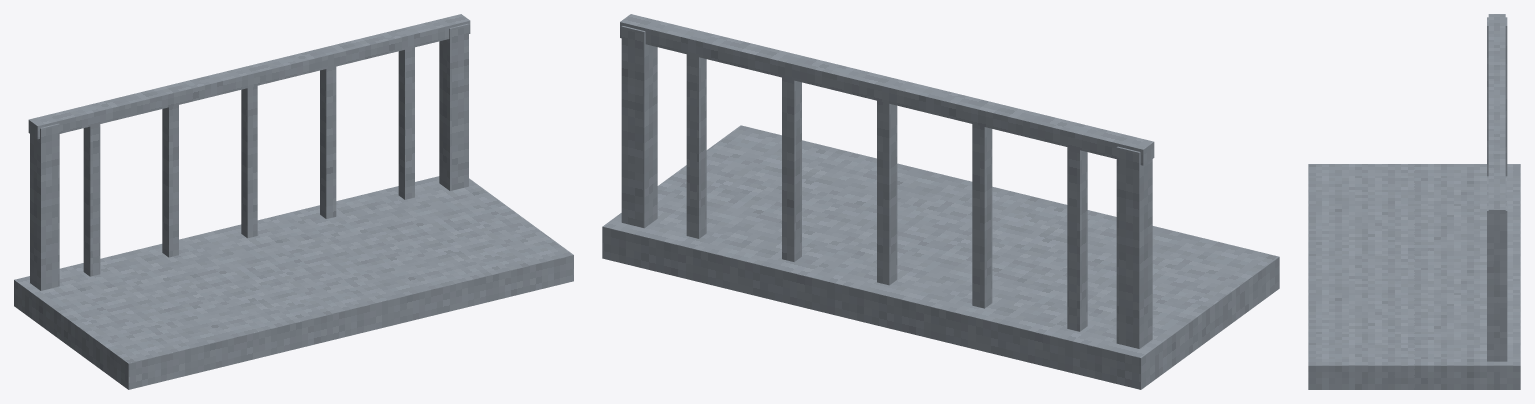
The model's file is level_blockout_prison_gallery_rail.glb.
3 views of the same model, side by side, from view 1: azimuth 30°, elevation 25°; view 2: azimuth 150°, elevation 25°; view 3: azimuth 270°, elevation 25° (orthographic). The views are drawn at different scales.
Parts seen in each view (by area): view 1: level_blockout_prison_gallery_rail; view 2: level_blockout_prison_gallery_rail; view 3: level_blockout_prison_gallery_rail.
Part boxes in pixels (bbox=[...]): level_blockout_prison_gallery_rail: bbox=[14, 14, 573, 389]; level_blockout_prison_gallery_rail: bbox=[602, 14, 1279, 389]; level_blockout_prison_gallery_rail: bbox=[1308, 14, 1520, 389].
Size of the model in its own units: 2.83 by 1.16 by 1.26.
1 material, 1 textured.
